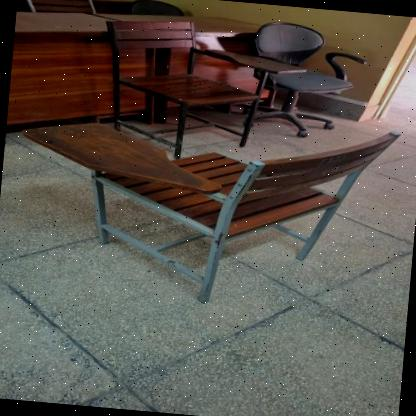chair: (6, 87, 404, 318), (93, 7, 306, 163), (242, 14, 378, 142)
